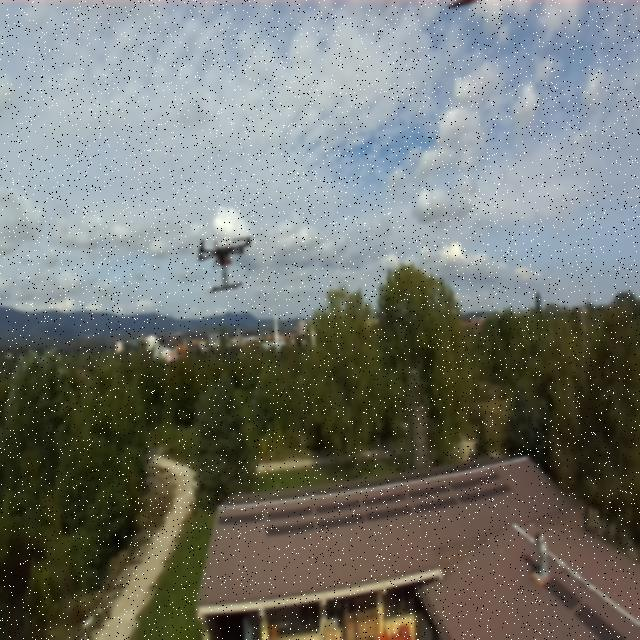UAV: (194, 229, 266, 295)
